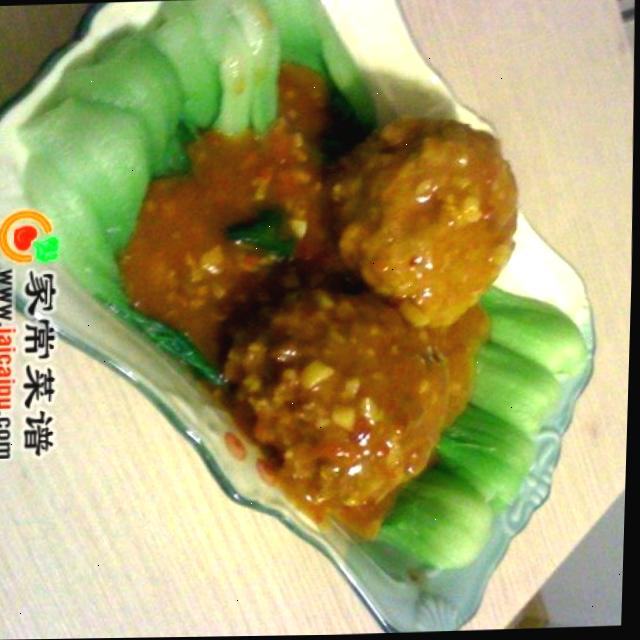猪肉菜式: (84, 46, 596, 555)
